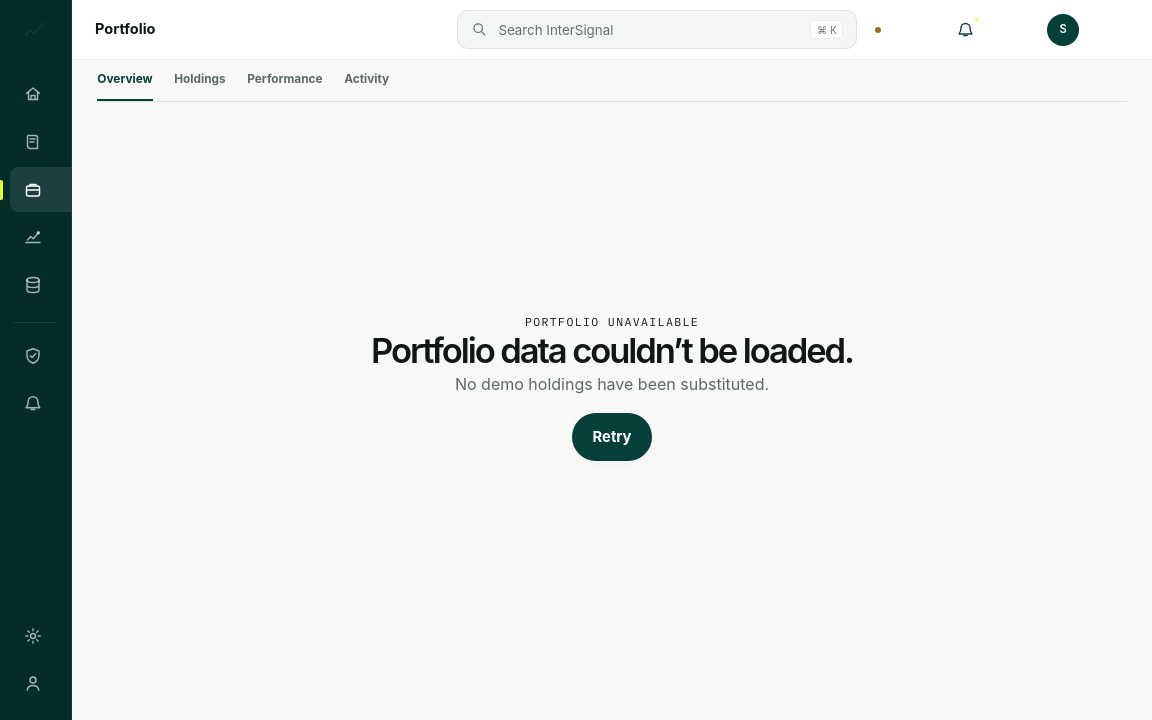
Scenario: Portfolio overview › retries after an error
The image size is (1152, 720).
Click the button "Retry": (612, 437) [572, 413, 652, 461]
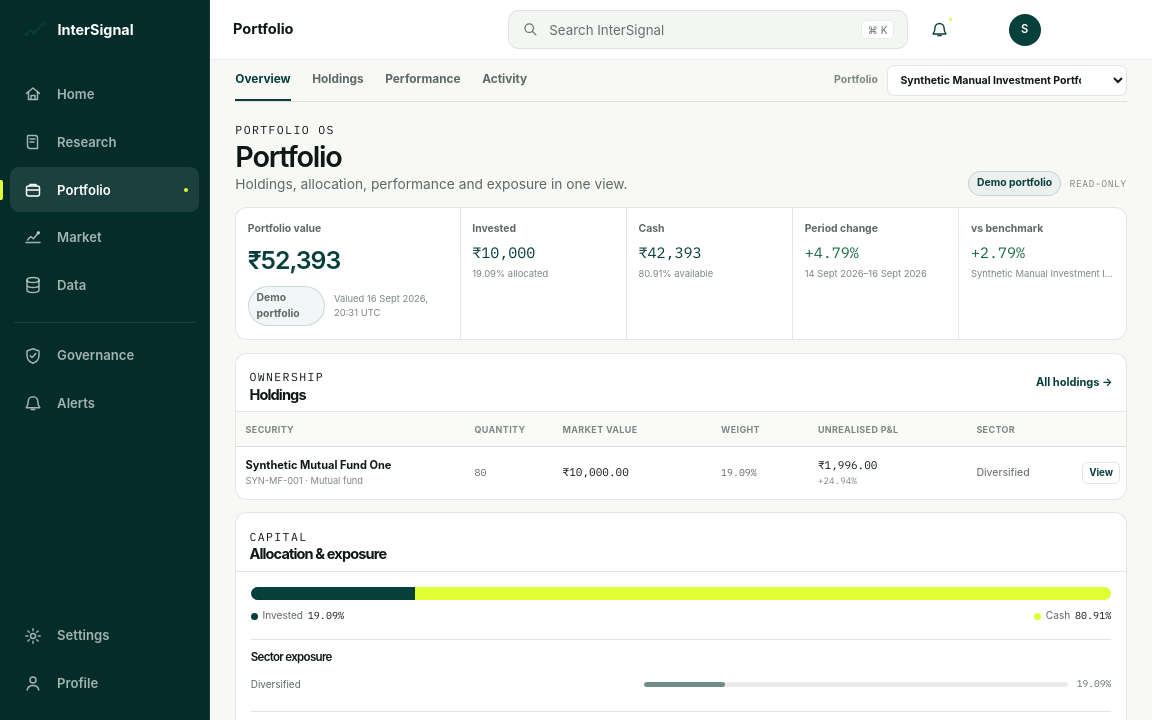
Now the text "₹52,393" is shown, box [248, 245, 340, 275]
